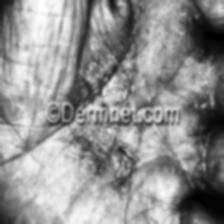Non-Cancerous Skin Condition: (68, 36, 144, 190), (176, 0, 224, 127)
